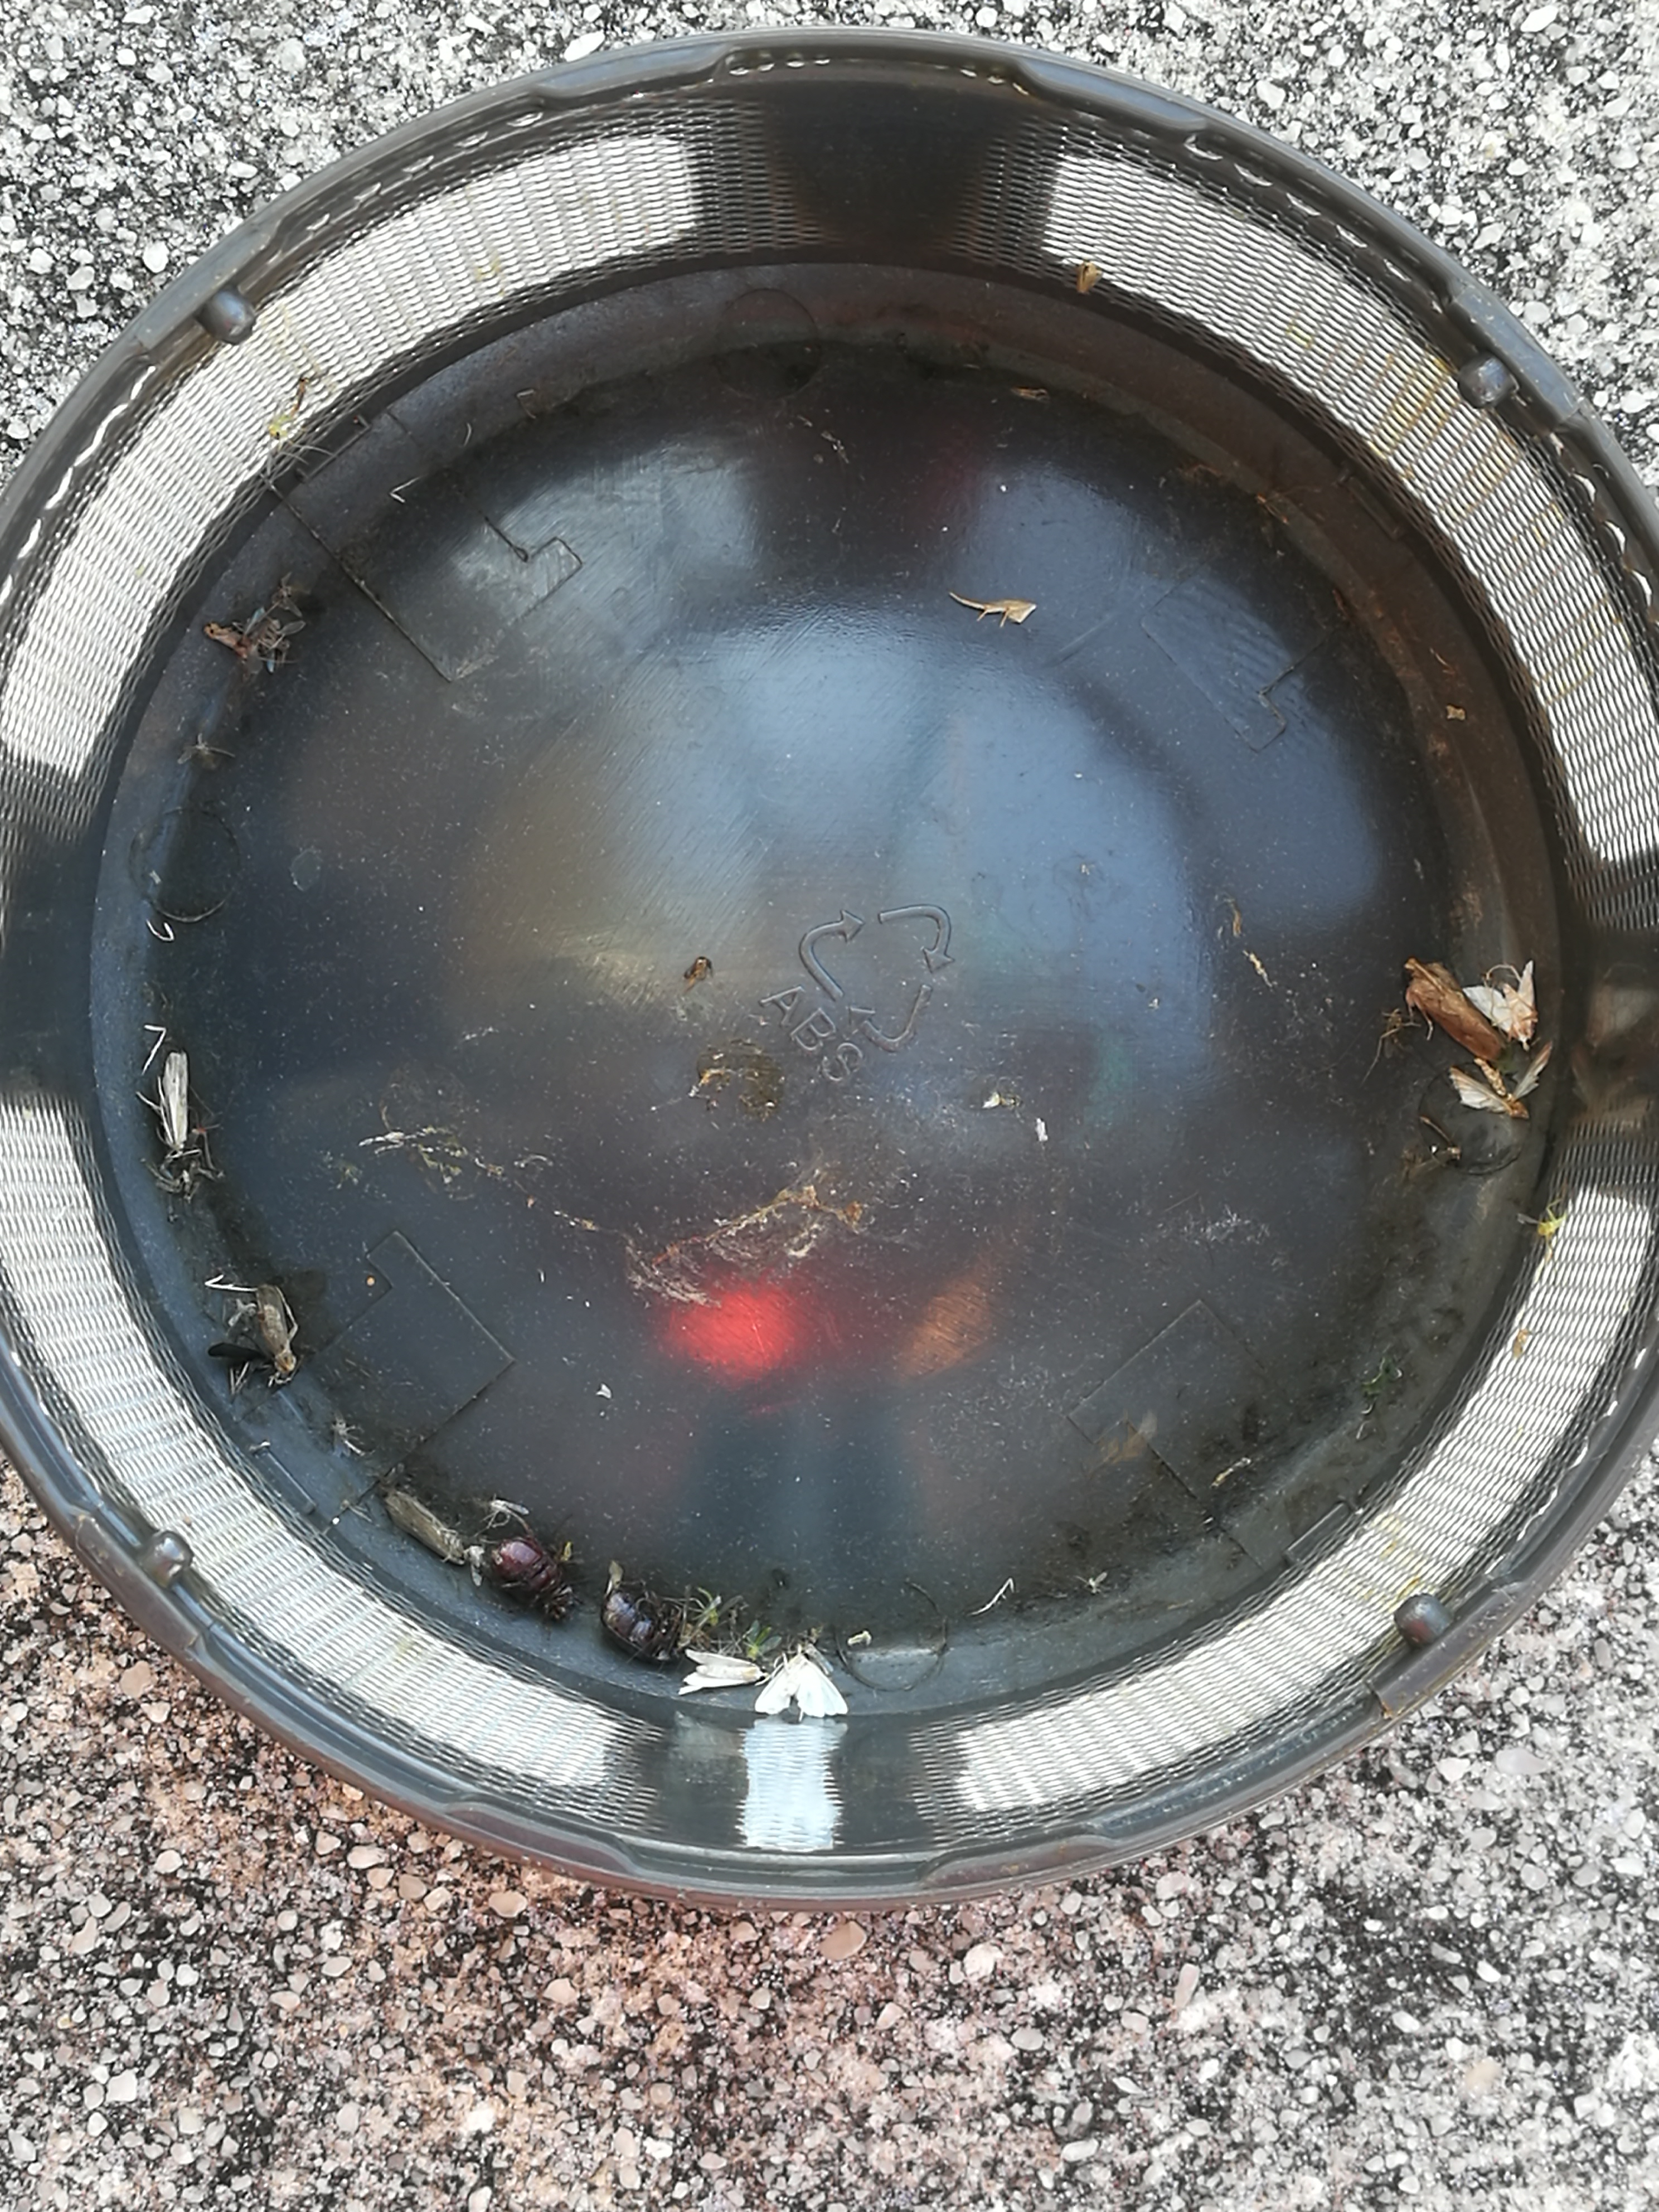beetle: (491, 1541, 572, 1618), (601, 1588, 678, 1663)
mosquito: (1406, 960, 1504, 1057), (385, 1491, 465, 1566), (258, 1287, 296, 1372), (162, 1052, 186, 1151), (206, 622, 240, 650)
moth: (1462, 960, 1537, 1050), (755, 1653, 849, 1716), (678, 1649, 767, 1695)
